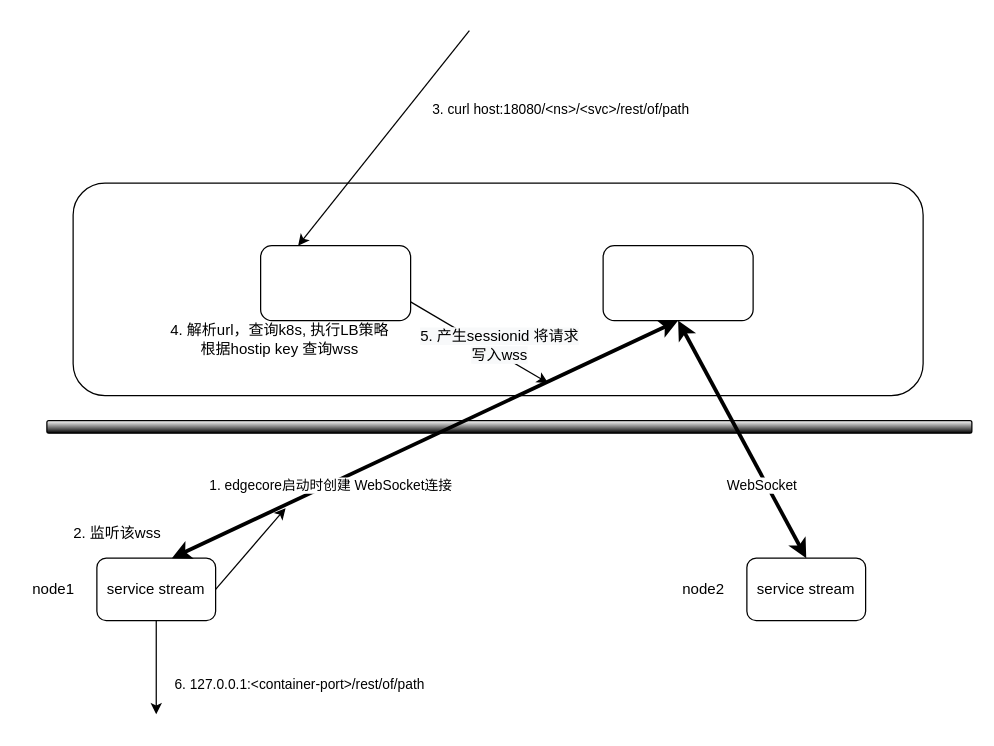
Image size: 994x746. Some labels were removed from this diagram. Here are the shapes that lost their labels. From the top down, the centre of each, then its label:
point (335, 282): edgeGateway
point (677, 282): tunnel server
